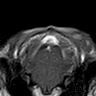Brain: (23, 35, 74, 89)
